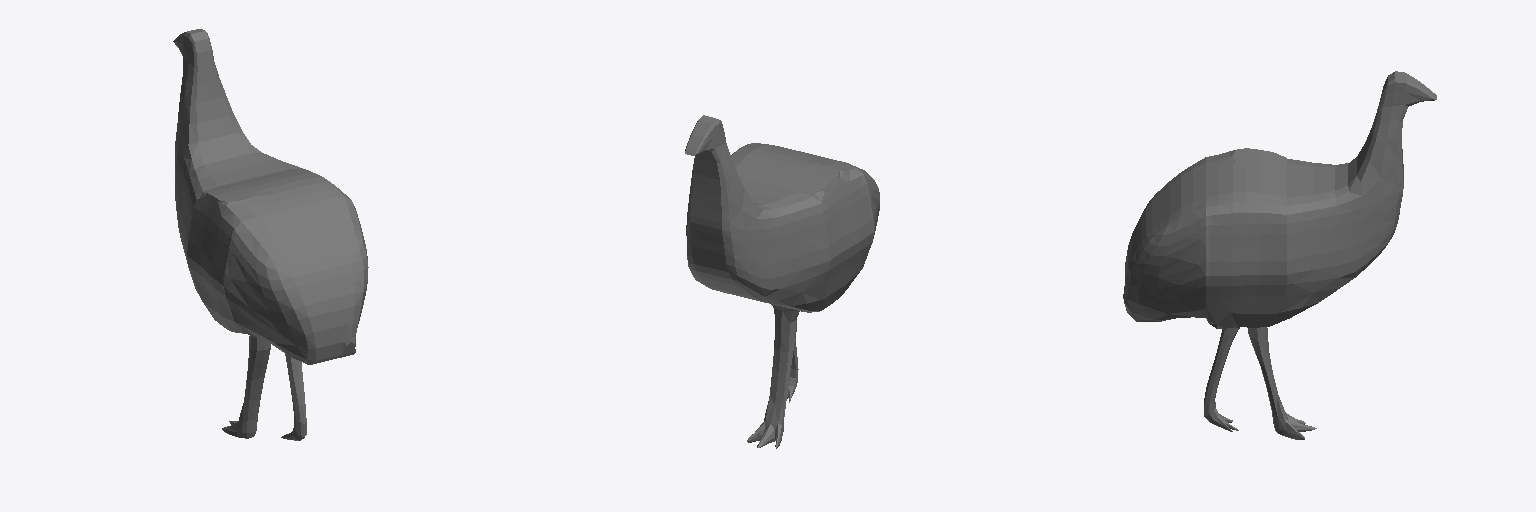
The model's file is emu_model.obj.
3 views of the same model, side by side, from view 1: azimuth 30°, elevation 25°; view 2: azimuth 150°, elevation 25°; view 3: azimuth 270°, elevation 25° (orthographic).
Parts seen in each view (by area): view 1: emu1:pCube1; view 2: emu1:pCube1; view 3: emu1:pCube1.
Boxes of the visible parts, <box> form: emu1:pCube1: <box>173,29,368,440</box>; emu1:pCube1: <box>685,115,879,448</box>; emu1:pCube1: <box>1123,71,1436,439</box>.
Bounding box in the file's own units: 0.395 × 0.9866 × 0.7741.